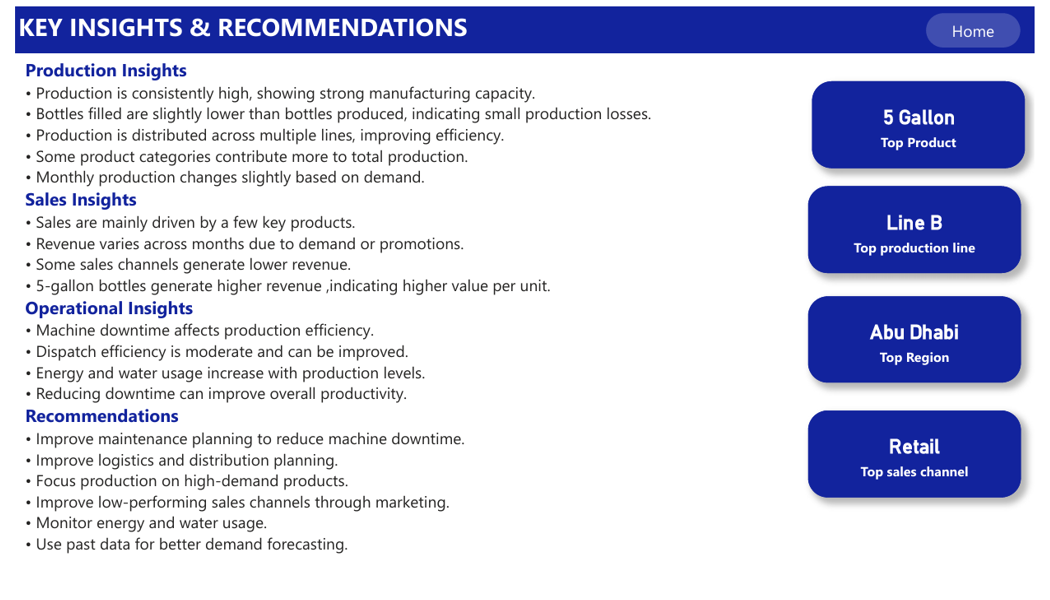

What the dashboard file says about the page in this screenshot:
{"tool":"powerbi","page":{"name":"Insights&Recommendations","canvas":[1545,876],"ordinal":4},"visuals":[{"type":"textbox","box":[0,0,1544.6,71.4],"z":0,"group":"g1"},{"type":"card","fields":{"Values":["Table1.Top Product"]},"box":[1207.3,112.8,323.3,131.7],"z":0,"group":"g2"},{"type":"textbox","box":[10.3,72.4,1170.7,770.7],"z":1000},{"type":"card","fields":{"Values":["Table1.Top sales channel"]},"box":[1201.7,611.7,323.3,131.7],"z":1000,"group":"g2"},{"type":"card","fields":{"Values":["Table1.Top Region"]},"box":[1201.7,438.4,323.3,131.7],"z":2000,"group":"g2"},{"type":"pageNavigator","box":[1380.4,8.9,144.6,53.6],"z":2500,"group":"g1"},{"type":"group","id":"g1","title":"Group 1","box":[0,0,1544.6,71.4],"z":2501},{"type":"group","id":"g2","title":"Group 2","box":[1201.7,112.8,328.9,630.6],"z":2506},{"type":"card","fields":{"Values":["Table1.Top production line"]},"box":[1201.7,271.7,323.3,131.7],"z":3000,"group":"g2"}]}

Visuals, with their boxes in screenshot pixels (x1, y1, x2, y2), scaled from the page's 1545x876 canvas onto the 1050x600 screenshot:
textbox: (x1=0, y1=0, x2=1049, y2=49)
card - Table1.Top Product: (x1=820, y1=77, x2=1040, y2=167)
textbox: (x1=7, y1=50, x2=803, y2=577)
card - Table1.Top sales channel: (x1=817, y1=419, x2=1036, y2=509)
card - Table1.Top Region: (x1=817, y1=300, x2=1036, y2=390)
pageNavigator: (x1=938, y1=6, x2=1036, y2=43)
"Group 1" group: (x1=0, y1=0, x2=1049, y2=49)
"Group 2" group: (x1=817, y1=77, x2=1040, y2=509)
card - Table1.Top production line: (x1=817, y1=186, x2=1036, y2=276)
